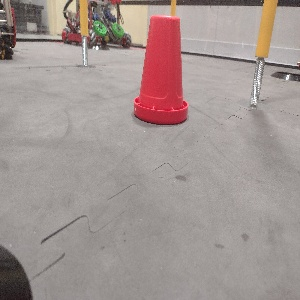Red_1: (133, 12, 188, 125)
